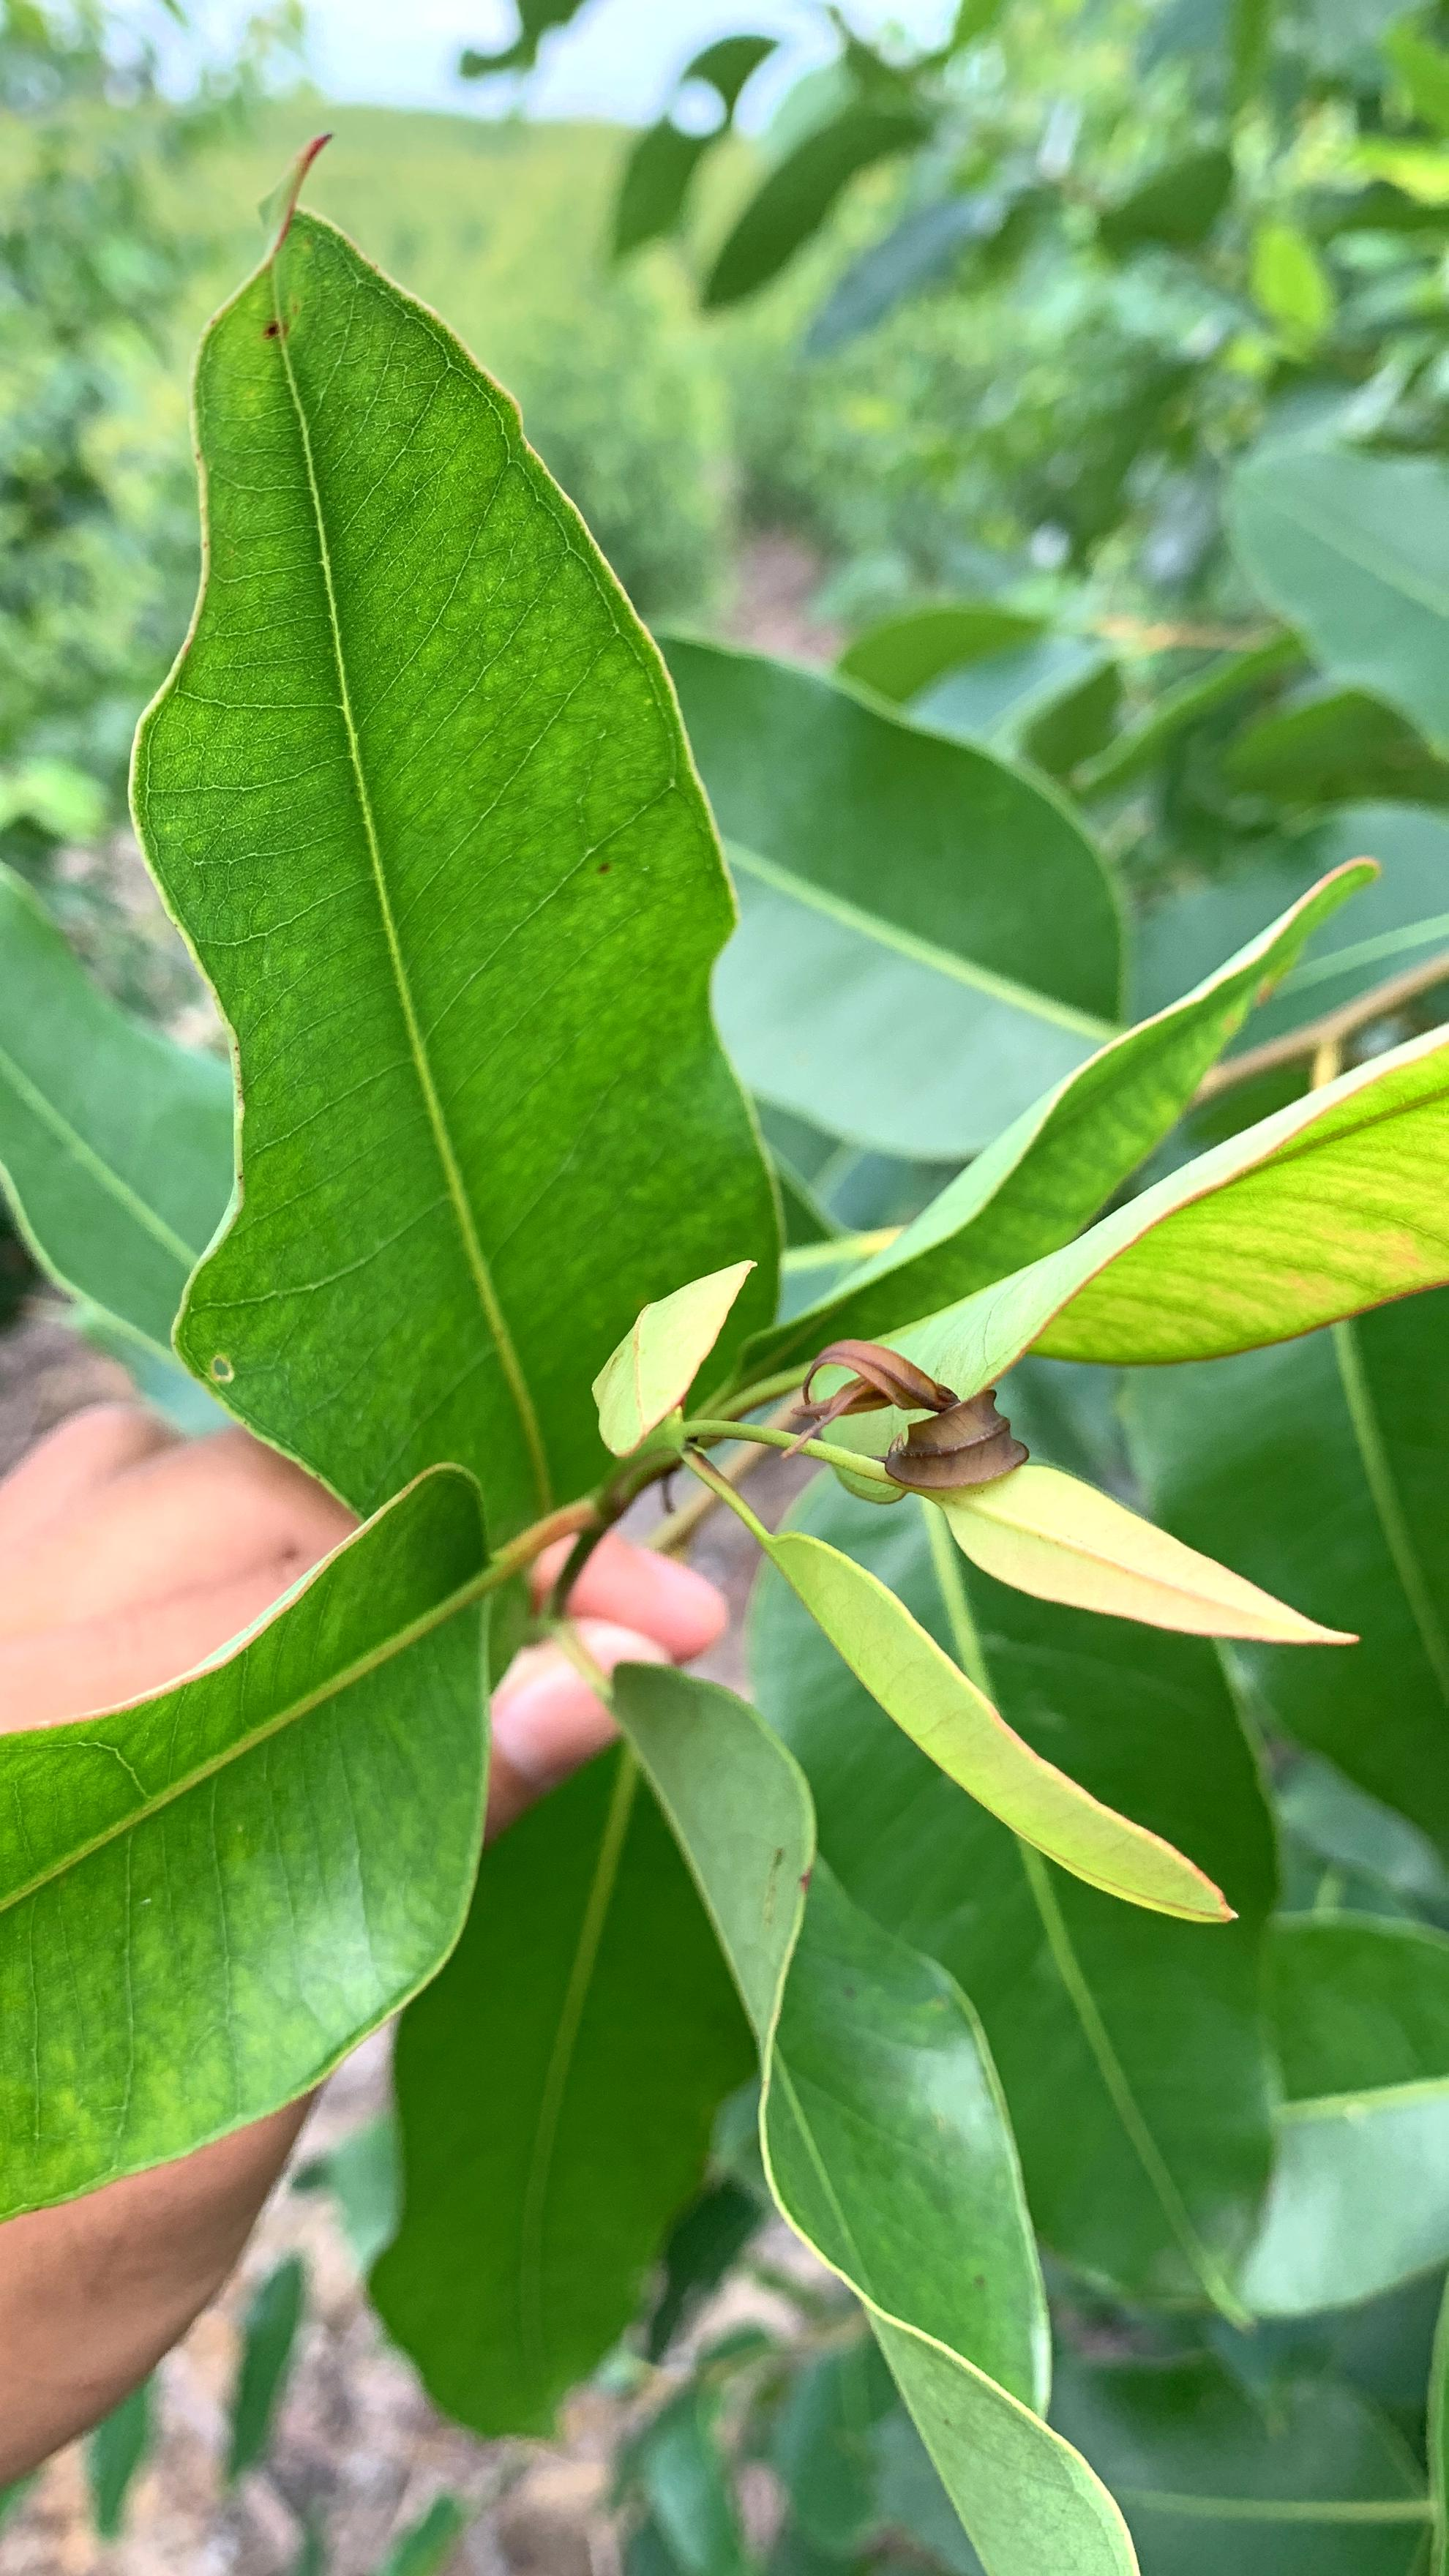Helopeltis-Withered Sprout: (733, 1311, 1039, 1536)
